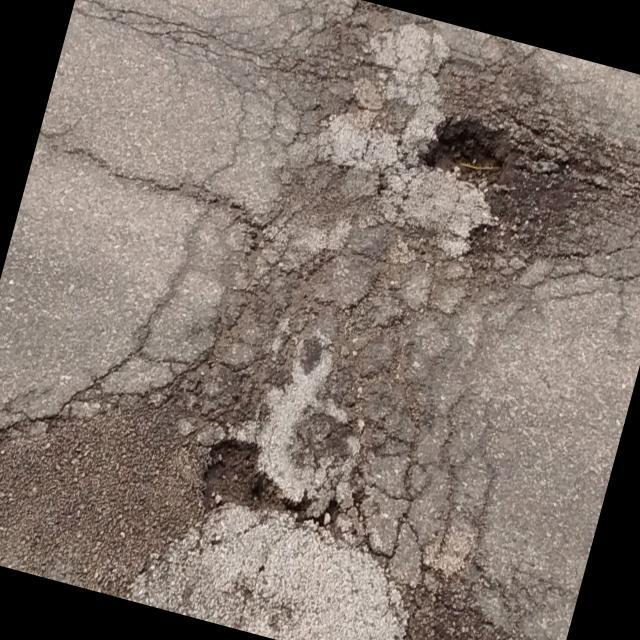Pothole: (188, 424, 310, 540), (414, 106, 521, 193)
